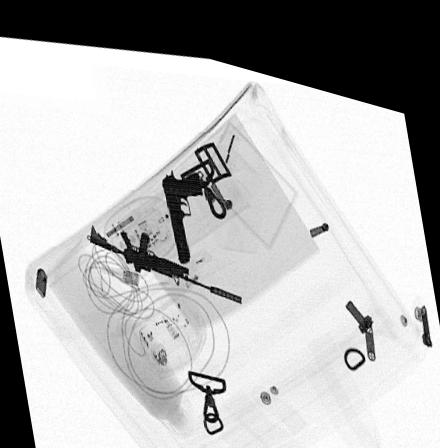Gun: (87, 217, 240, 289), (160, 157, 202, 252)
